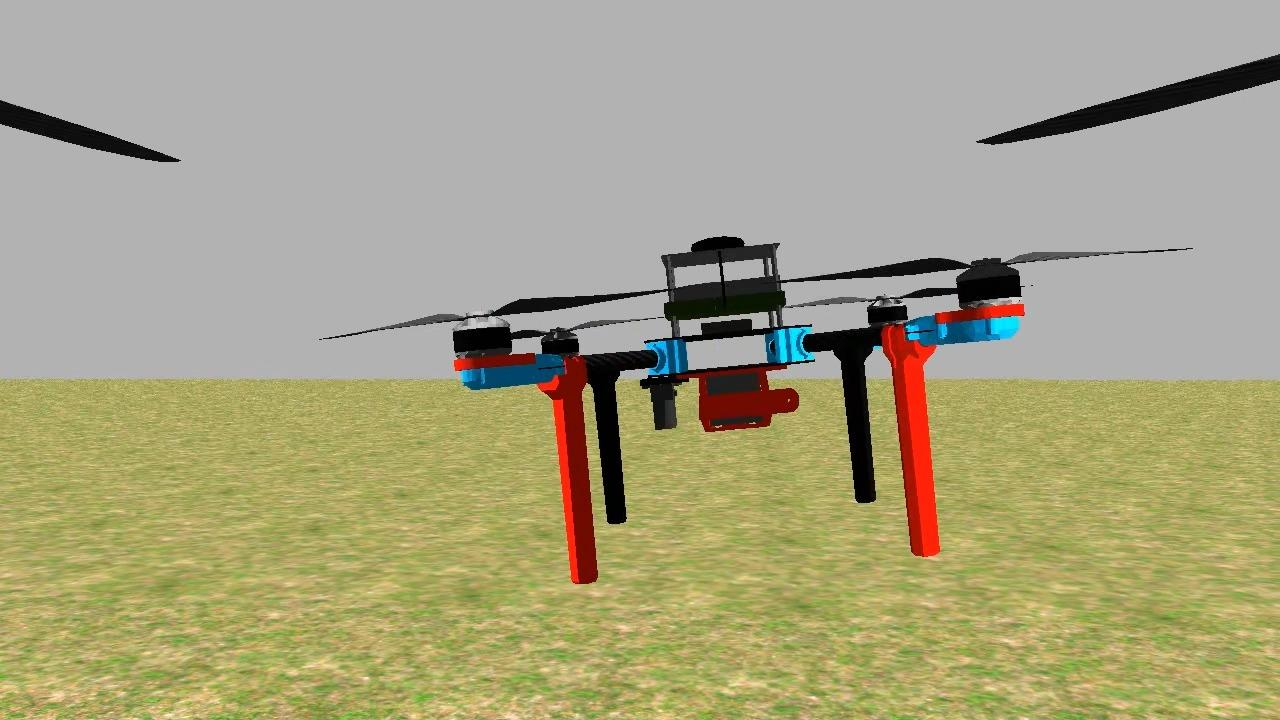UAV: (442, 225, 1037, 595)
